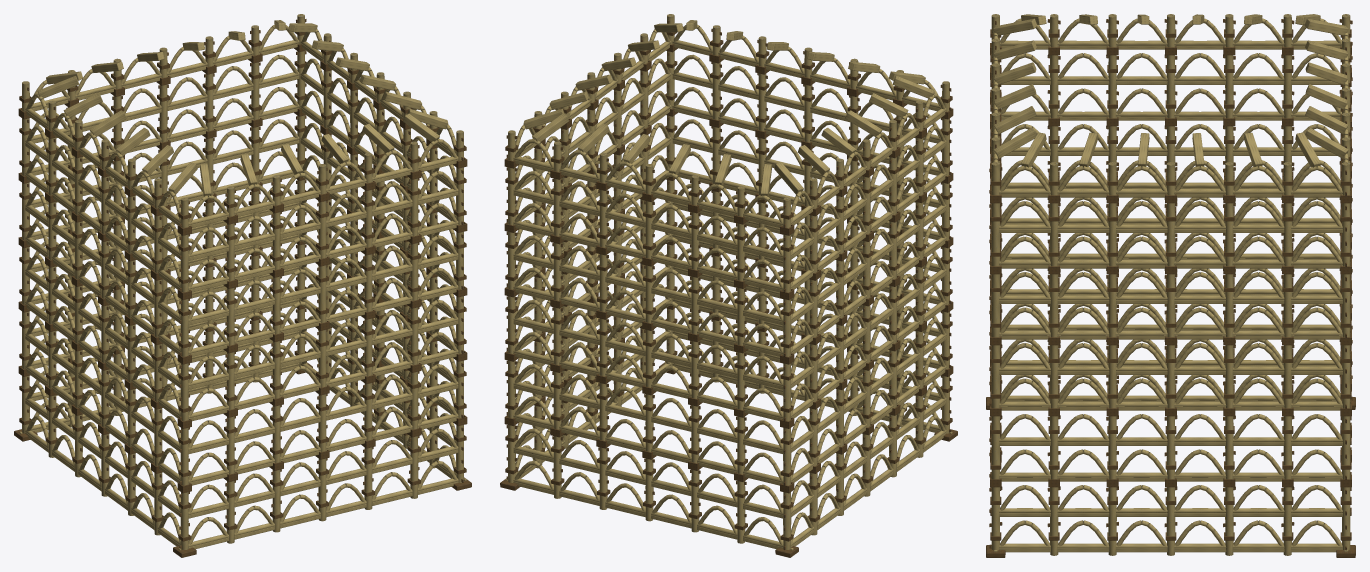
The picture shows the model from 3 angles, left to right: view 1: azimuth 30°, elevation 25°; view 2: azimuth 150°, elevation 25°; view 3: azimuth 270°, elevation 25°; orthographic projection. The views are drawn at different scales.
Visible parts, largest first — view 1: no part large enough to name; view 2: no part large enough to name; view 3: Tier 0 side 1 post 3, Tier 0 side 1 post 5, Tier 0 side 1 post 2, Tier 0 side 1 post 4, Crown petal 2-0, Tier 0 side 1 post 1, Crown petal 0-5, Tier 3 side 1 post 0, Tier 4 side 1 post 0, Tier 1 side 1 post 0, Tier 2 side 1 post 0, Tier 0 side 1 post 0 (+38 smaller).
Part boxes in pixels (bbox=[...]): Tier 0 side 1 post 3: bbox=[1166, 487, 1175, 555]; Tier 0 side 1 post 5: bbox=[1283, 487, 1291, 555]; Tier 0 side 1 post 2: bbox=[1108, 487, 1116, 555]; Tier 0 side 1 post 4: bbox=[1225, 487, 1233, 555]; Crown petal 2-0: bbox=[1305, 128, 1348, 158]; Tier 0 side 1 post 1: bbox=[1050, 487, 1058, 555]; Crown petal 0-5: bbox=[993, 128, 1036, 158]; Tier 3 side 1 post 0: bbox=[991, 274, 999, 337]; Tier 4 side 1 post 0: bbox=[991, 203, 999, 266]; Tier 1 side 1 post 0: bbox=[991, 416, 999, 479]; Tier 2 side 1 post 0: bbox=[991, 345, 999, 408]; Tier 0 side 1 post 0: bbox=[991, 487, 999, 550].
Bounding box in the file's own units: 2.85 × 3.45 × 2.85.
Materials: 2 (2 with a texture image).
